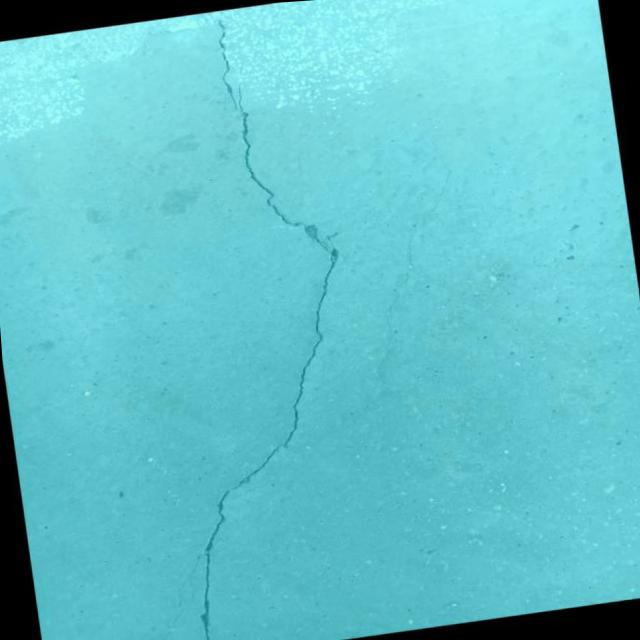crack: (75, 3, 408, 640), (346, 214, 447, 404), (414, 163, 456, 227), (429, 133, 438, 150)
